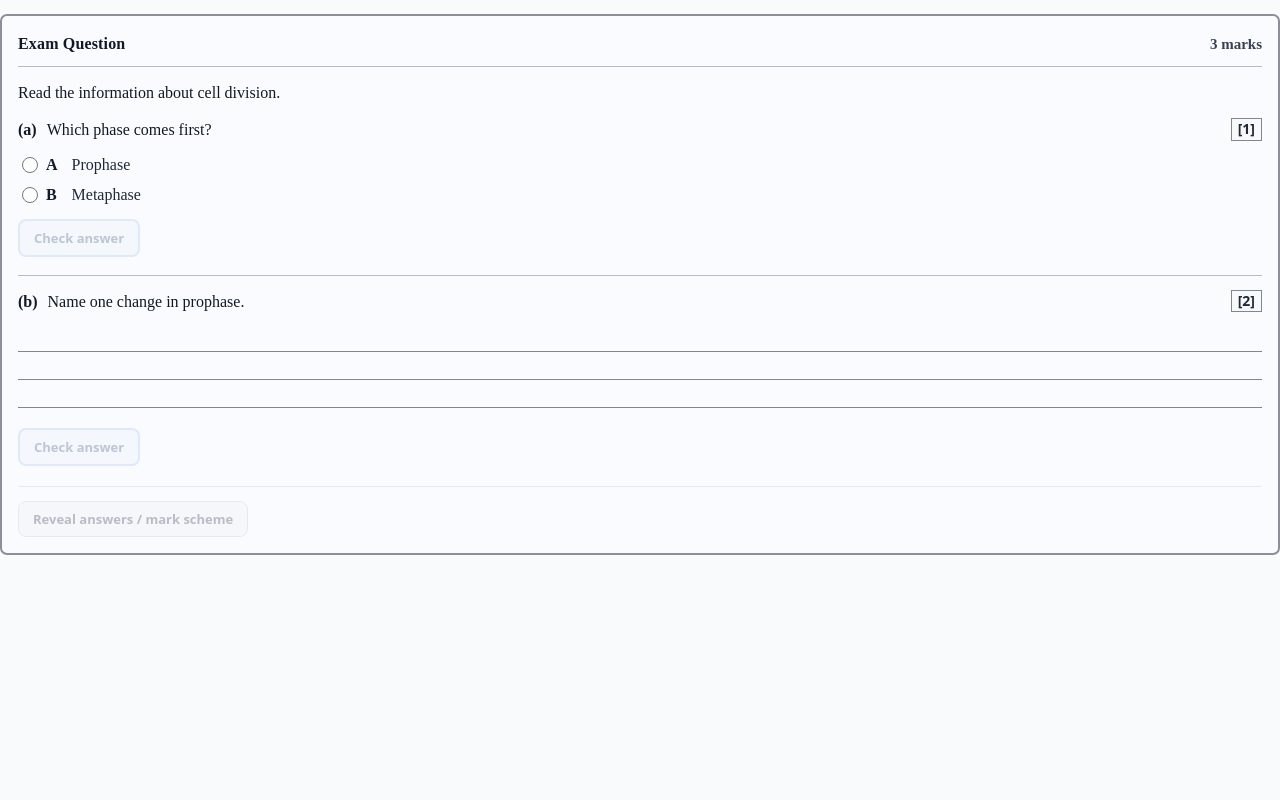
it: ExamQuestionBlock composite question marking › part (b) written answer marks partially with feedback
Type "Chromosomes condense" into the text box named "your answer".
click(640, 370); type("Chromosomes condense")  # box [18,324,1262,416]
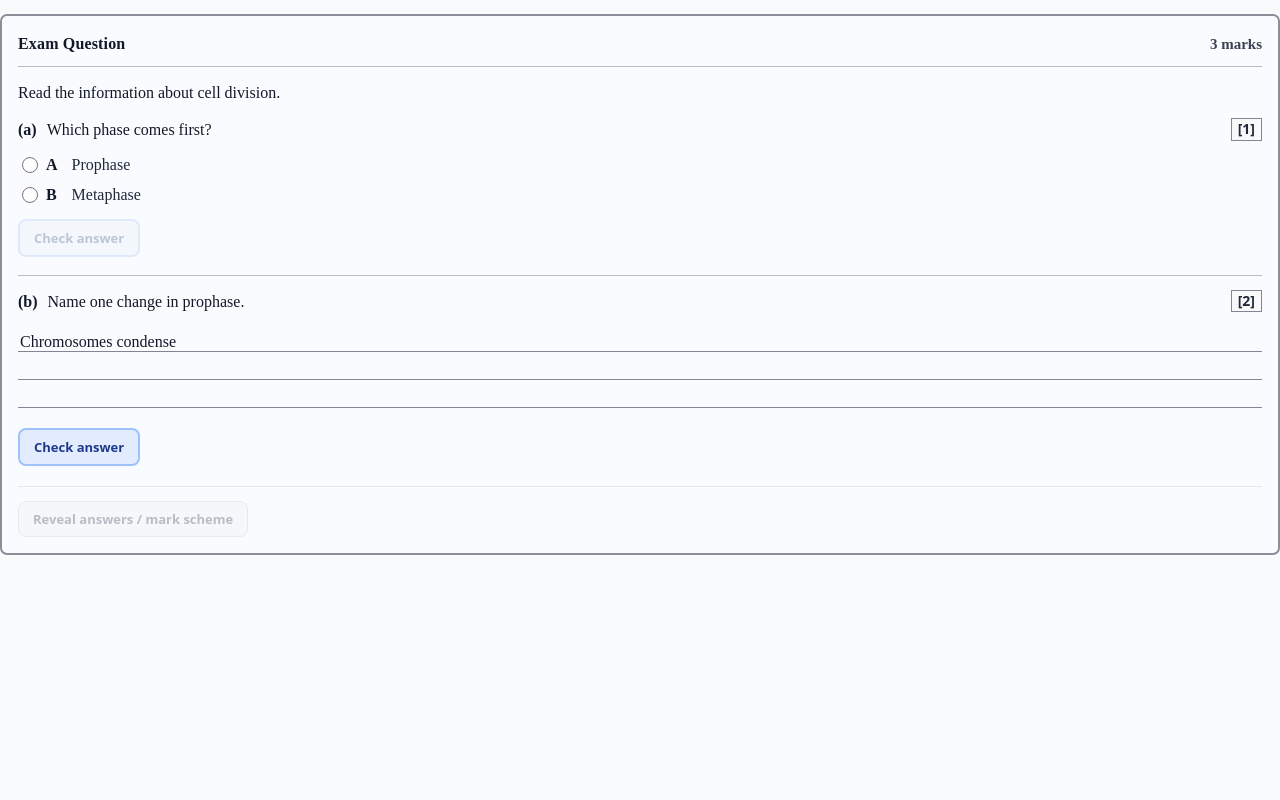
Click the button "Check answer" below "Name one change in prophase.".
click(79, 447)  # box [18,428,140,466]
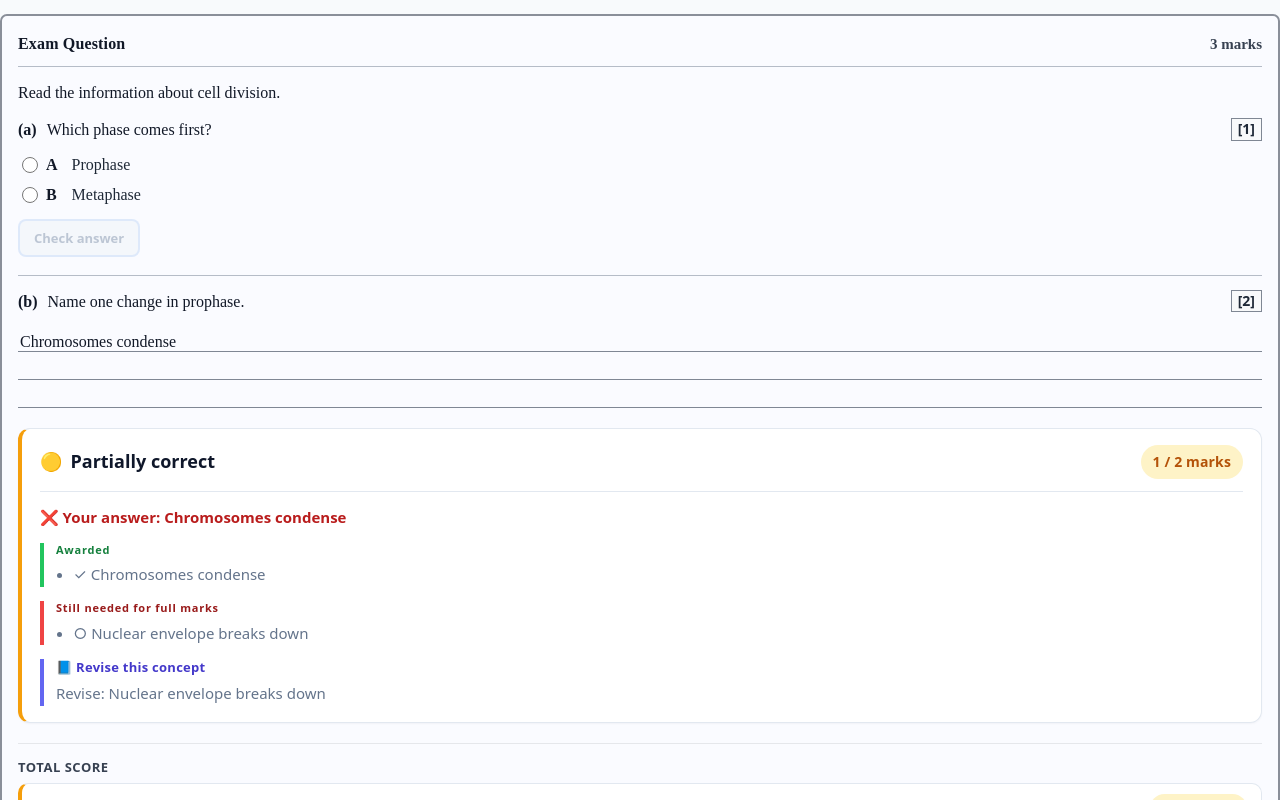
Expected: the element with test id "exam-composite-part-marking-1" is shown, [18,428,1262,723]
Expected: the text "Still needed for full marks" is shown, [56,600,219,615]
